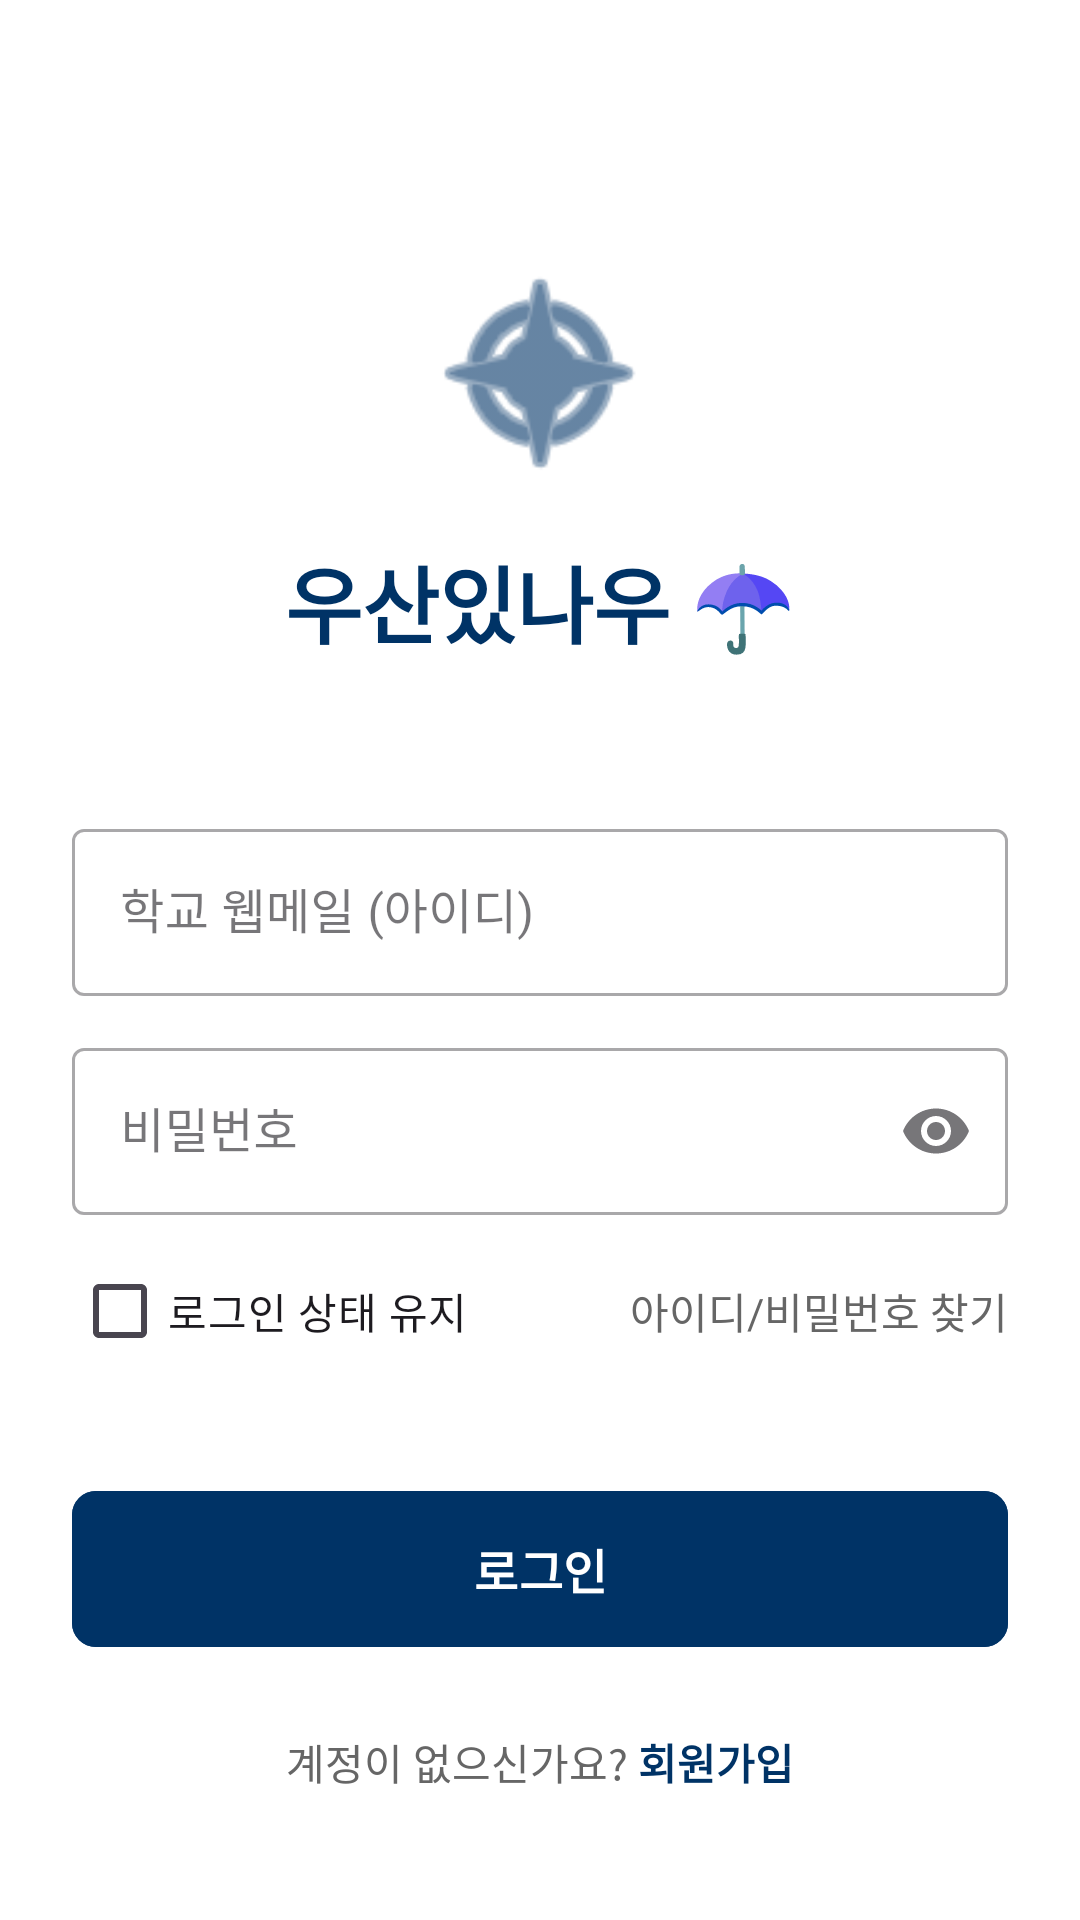

Icon click points for this 1080 × 1920 phone screenshot, format [x,y]:
compass: [539,373]
